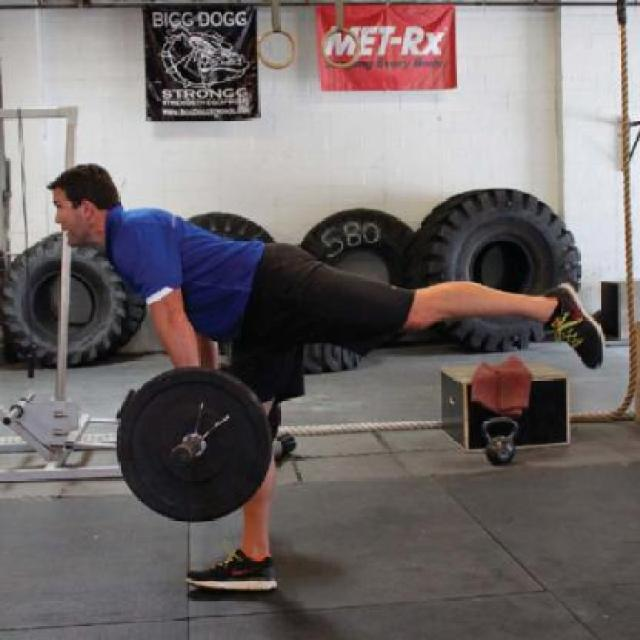barbell: (109, 362, 282, 528)
